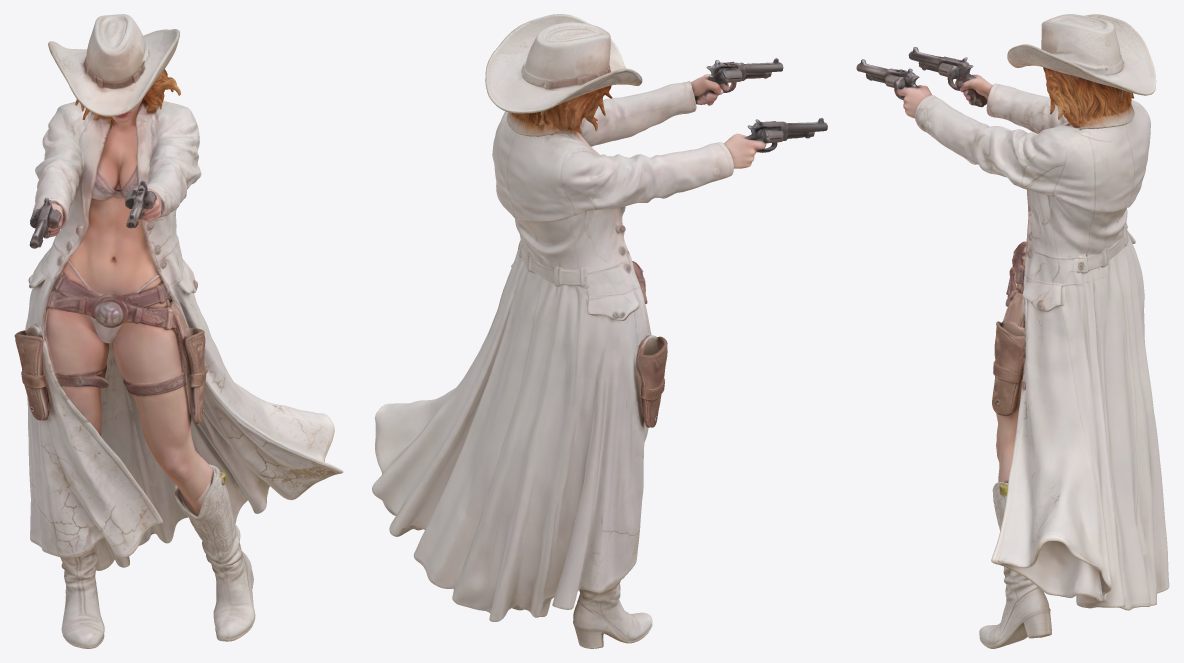
The model's file is cowgirl.glb.
3 renders of one model, left to right at view 1: azimuth 30°, elevation 25°; view 2: azimuth 150°, elevation 25°; view 3: azimuth 270°, elevation 25°, orthographic. The views are drawn at different scales.
Parts seen in each view (by area): view 1: Mesh_0_modddif_material_0_0 (×2); view 2: Mesh_0_modddif_material_0_0 (×2); view 3: Mesh_0_modddif_material_0_0 (×2).
Part boxes in pixels (<box>): Mesh_0_modddif_material_0_0 (×2): <box>14,14,343,648</box>; Mesh_0_modddif_material_0_0 (×2): <box>372,14,827,648</box>; Mesh_0_modddif_material_0_0 (×2): <box>856,14,1169,648</box>.
Bounding box in the file's own units: 0.6454 × 1 × 0.48.
Materials: 1 (1 with a texture image).
